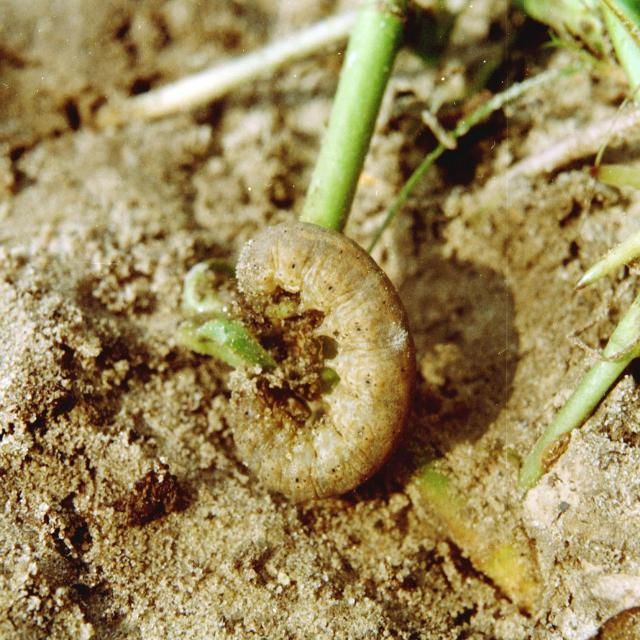cutworm: (184, 211, 421, 510)
